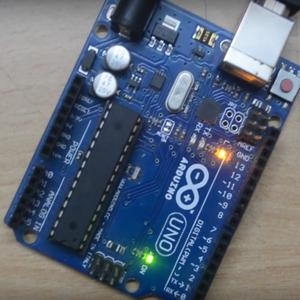duino: (8, 0, 296, 300)
